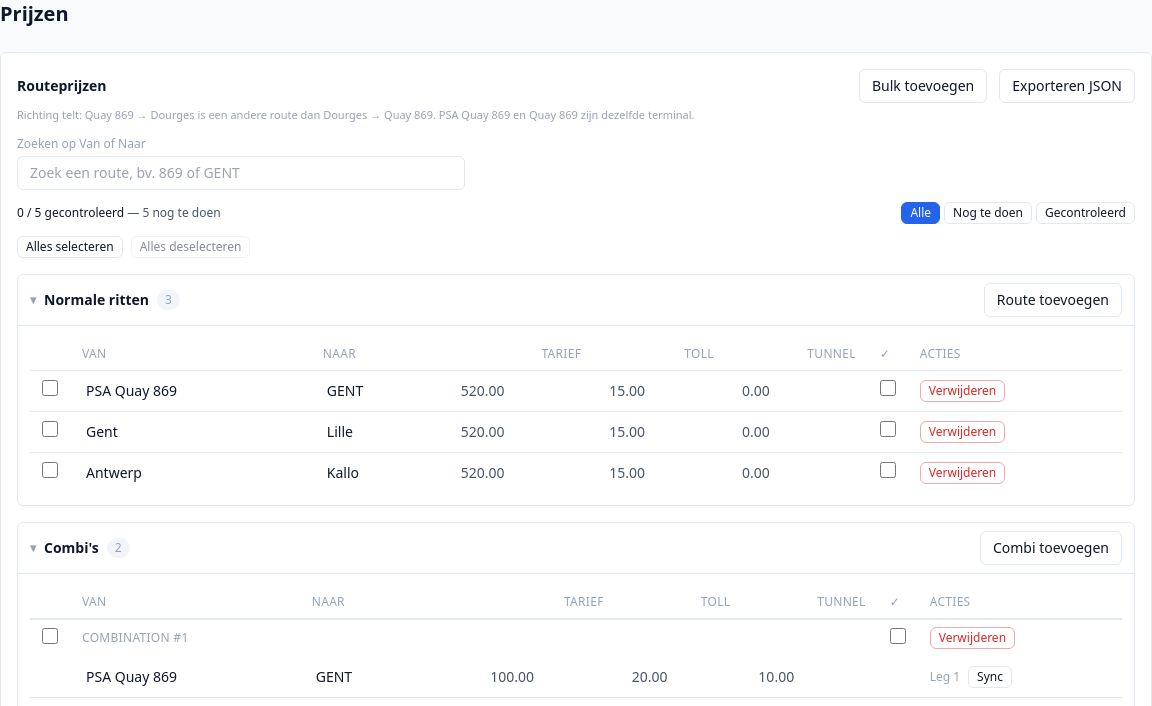
Test case: the search › opens a closed section that holds results
The image size is (1152, 706).
expect the button "Lille" is shown: met, box x1=323 y1=420 x2=433 y2=444
Click the button "▾ Combi's 2".
click(80, 548)  # box x1=30 y1=538 x2=130 y2=558
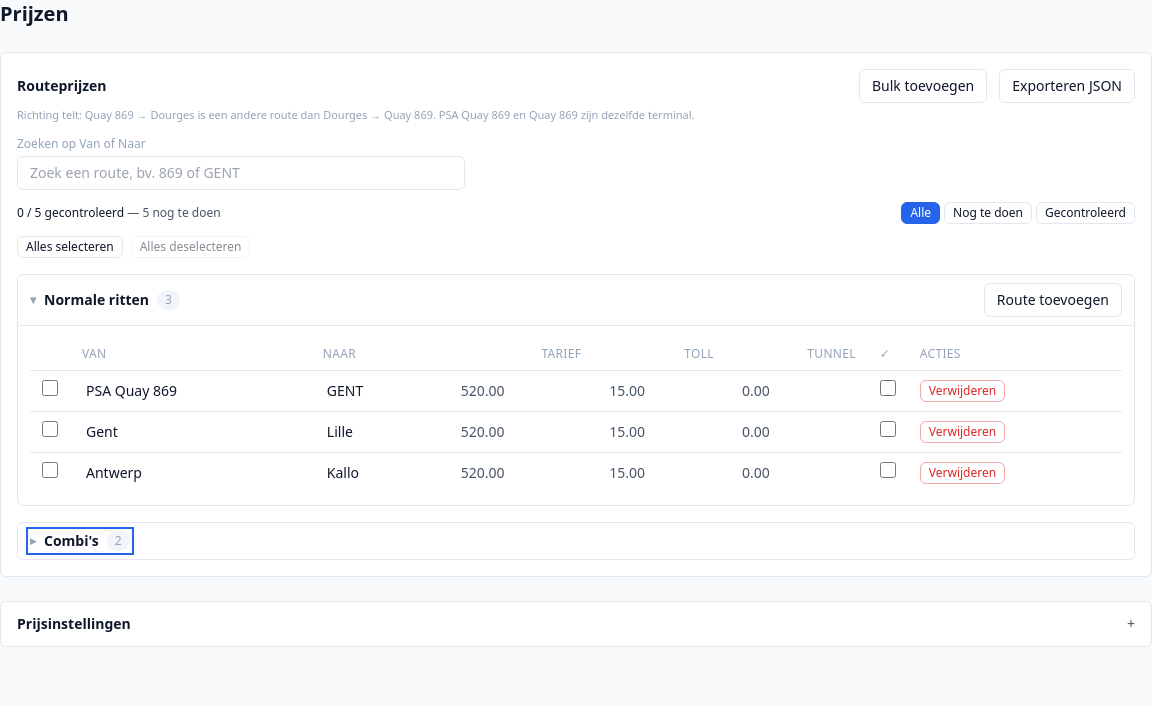
expect the button "▸ Combi's 2" is collapsed: met, box x1=30 y1=530 x2=130 y2=550
Type "LESSINES" into the search field labelled "Zoeken op Van of Naar".
click(241, 172); type("LESSINES")  # box x1=17 y1=156 x2=465 y2=190
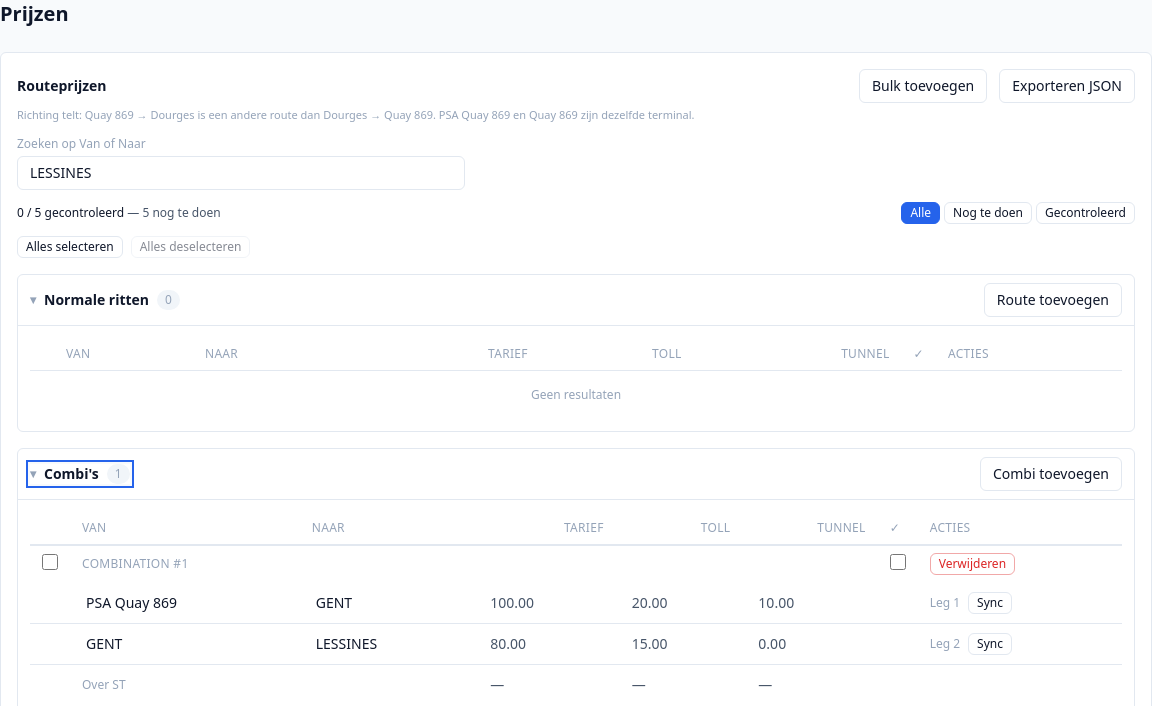
expect the button "▾ Combi's 1" is expanded: met, box x1=30 y1=464 x2=130 y2=484
